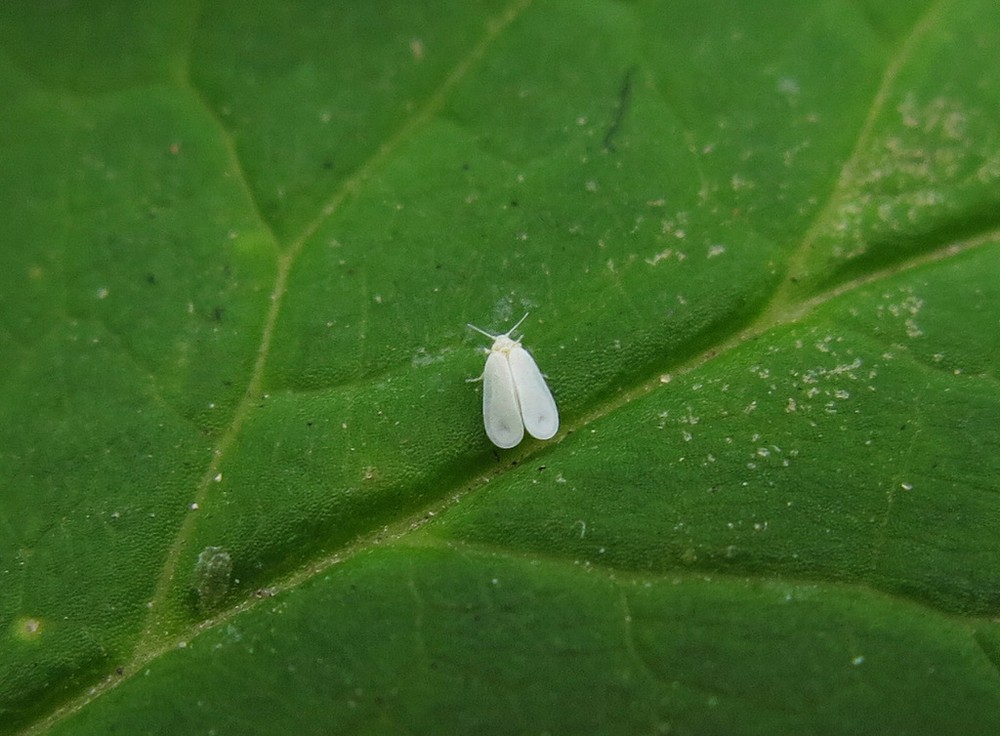Mosca Blanca: (444, 302, 602, 468)
